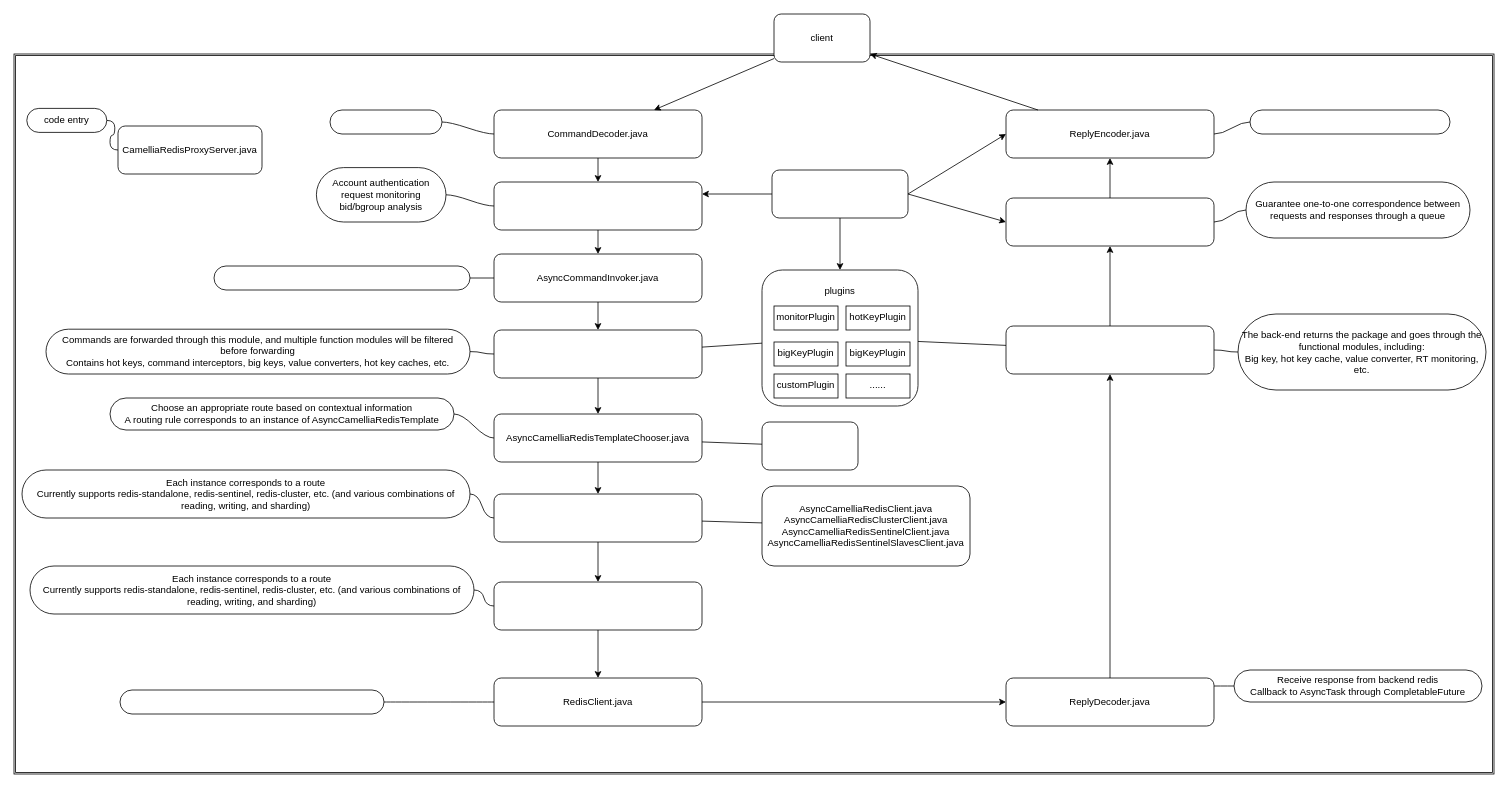
This 1508x788 diagram has some shape labels left out. Each missing label, with the centre of its shape:
"AsyncCamelliaRedisTemplate.java" goes at point (597, 517).
"AsyncTask.java" goes at point (1109, 349).
"AsyncTaskQueue.java" goes at point (1109, 221).
"CommandsTransponder.java" goes at point (597, 353).
"Each instance represents a connection to the backend" goes at point (251, 701).
"Encode the response back to the client" goes at point (1349, 121).
"Initialization of various configurations and parameters" goes at point (341, 277).
"Protocol decoding" goes at point (385, 121).
"ProxyMonitorCollector.java" goes at point (839, 193).
"RedisClientHub.java" goes at point (597, 605).
"remote local custom" goes at point (809, 445).
"ServerHandler.java" goes at point (597, 205).
